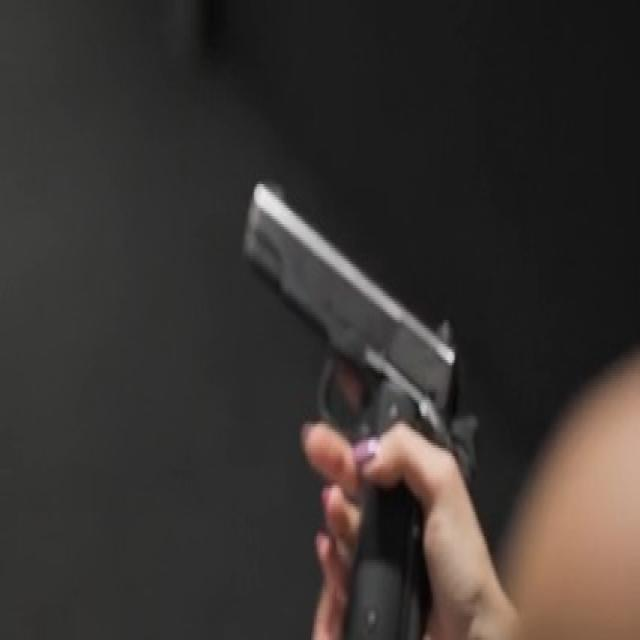Gun_Holder: (228, 160, 490, 640)
